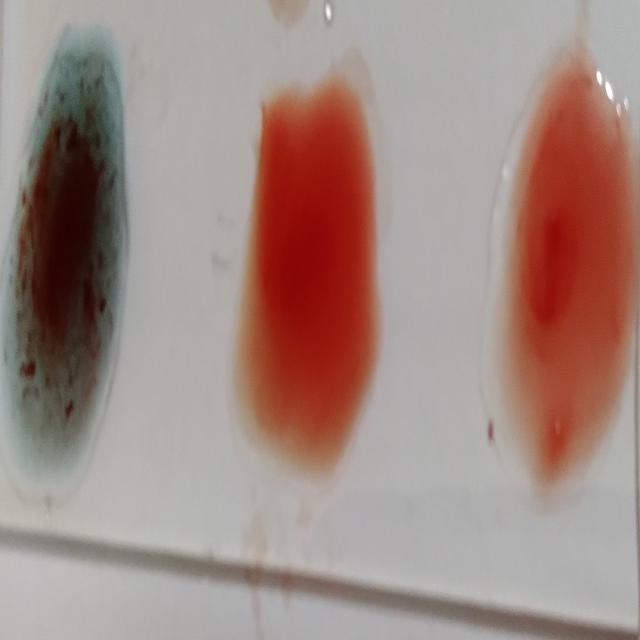A: (7, 34, 129, 492)
